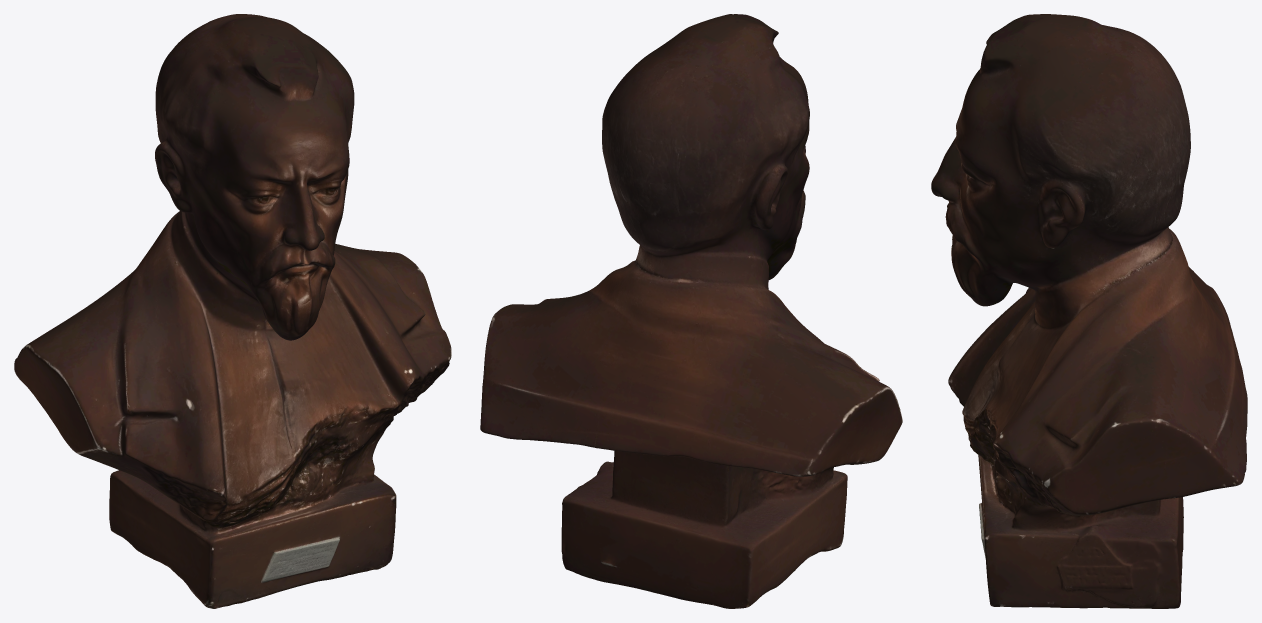
Rendered from bust.glb.
The picture shows the model from 3 angles, left to right: view 1: azimuth 30°, elevation 25°; view 2: azimuth 150°, elevation 25°; view 3: azimuth 270°, elevation 25°; orthographic projection. The views are drawn at different scales.
Visible parts, largest first — view 1: Mesh_0; view 2: Mesh_0; view 3: Mesh_0.
Part boxes in pixels (x1,y1,x2,y2): Mesh_0: (14,14,451,608); Mesh_0: (480,14,902,608); Mesh_0: (931,14,1247,608).
Bounding box in the file's own units: 1.38 × 1.9 × 1.
Materials: 1 (1 with a texture image).
